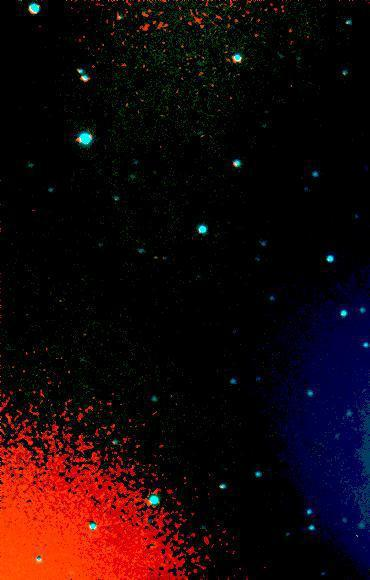star: (140, 246, 170, 276)
